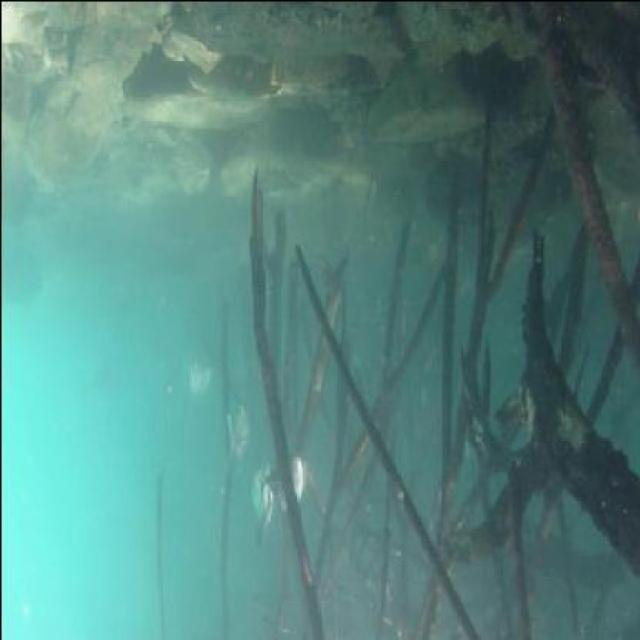Caranx_sexfasciatus_juvenile: (254, 442, 308, 526), (242, 462, 276, 547), (216, 394, 250, 466), (177, 346, 211, 408)
